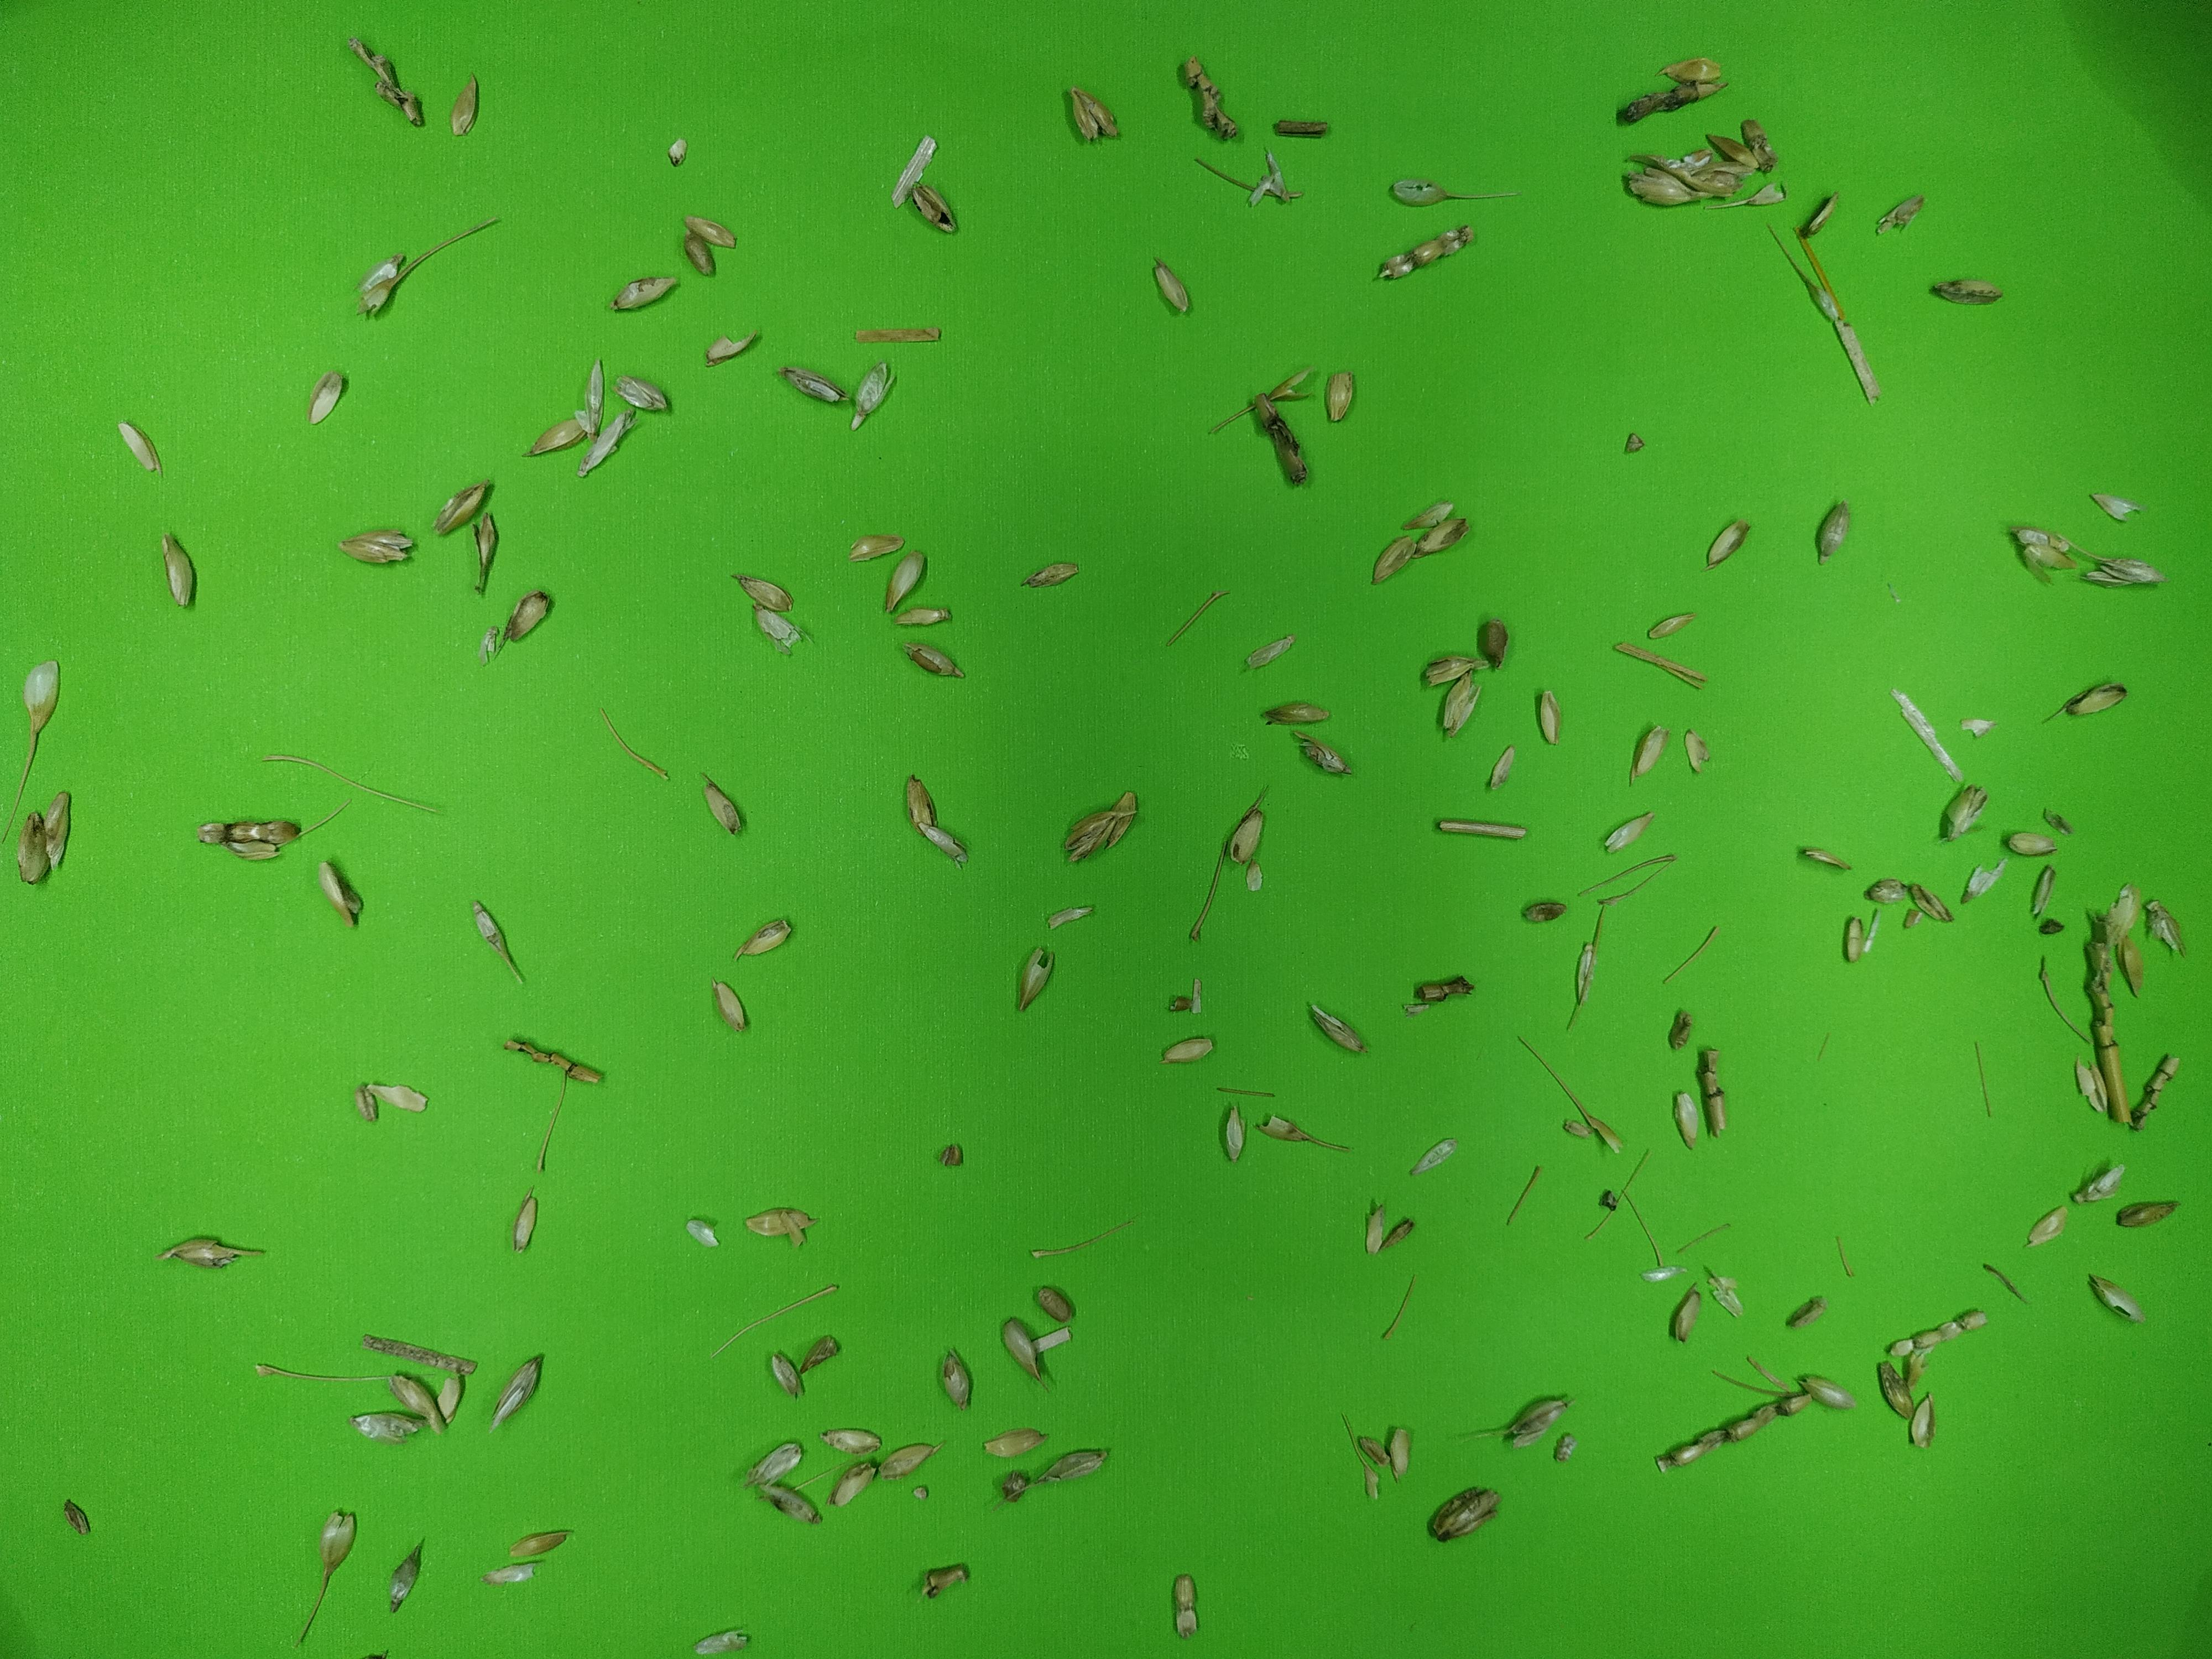impureza: (1766, 223, 1883, 401), (1648, 1387, 1810, 1478), (359, 218, 503, 315), (258, 751, 439, 816), (2081, 908, 2134, 1124), (291, 1506, 362, 1645), (721, 1277, 841, 1347), (1890, 688, 1965, 788), (348, 37, 425, 129), (1376, 221, 1474, 286), (1515, 1032, 1588, 1117), (1564, 904, 1611, 1032), (1581, 1150, 1646, 1243), (1177, 56, 1245, 143), (1062, 788, 1137, 866), (357, 1326, 477, 1375), (597, 704, 672, 781), (1886, 1307, 1996, 1359), (496, 1035, 604, 1087), (1611, 640, 1710, 694), (1576, 849, 1681, 899), (1627, 153, 1738, 200), (1616, 82, 1731, 127), (996, 1314, 1059, 1396), (474, 897, 529, 988), (577, 411, 650, 479), (1388, 173, 1524, 209), (1256, 394, 1310, 484), (486, 1351, 545, 1429), (160, 1232, 266, 1276), (314, 849, 368, 934), (2, 730, 42, 843), (385, 1366, 449, 1436), (2038, 953, 2088, 1042), (1426, 1486, 1505, 1542), (331, 525, 420, 573), (1031, 1215, 1130, 1258), (1163, 586, 1230, 650), (2040, 676, 2132, 721), (381, 1534, 430, 1617), (1658, 922, 1723, 985), (1510, 1389, 1575, 1452), (1343, 1412, 1385, 1506), (1305, 997, 1366, 1061), (1186, 850, 1226, 948), (848, 356, 899, 432), (1256, 1114, 1352, 1154), (253, 1358, 390, 1385), (535, 1068, 571, 1173), (2010, 526, 2074, 586), (1932, 784, 1994, 843), (907, 176, 965, 240), (2132, 1054, 2181, 1129), (894, 132, 939, 213), (434, 477, 495, 537), (273, 800, 345, 850), (883, 544, 930, 620), (1068, 84, 1123, 148), (1695, 1044, 1731, 1141), (1247, 148, 1303, 211), (1031, 1443, 1111, 1486), (12, 809, 56, 887), (740, 1204, 819, 1248), (747, 1436, 808, 1492), (775, 361, 850, 406), (695, 770, 747, 835), (192, 817, 305, 847), (1292, 734, 1359, 784), (509, 582, 559, 648), (1402, 972, 1475, 1018), (876, 1436, 949, 1481), (1627, 1187, 1667, 1269), (347, 1406, 428, 1446), (157, 528, 195, 612), (21, 659, 63, 735), (2085, 1274, 2144, 1328), (2069, 1154, 2132, 1204), (519, 415, 594, 457), (117, 416, 165, 479), (1409, 514, 1474, 561), (608, 275, 683, 315), (1595, 864, 1670, 904), (1153, 256, 1198, 322), (1702, 516, 1750, 577), (1705, 136, 1782, 174), (1627, 720, 1667, 793), (2078, 556, 2165, 589), (733, 915, 794, 962), (1432, 816, 1533, 843), (728, 572, 792, 615), (763, 1483, 827, 1527), (899, 643, 968, 683), (1601, 809, 1660, 856), (937, 1347, 979, 1413), (470, 509, 500, 601), (307, 366, 350, 429), (1797, 1371, 1860, 1415), (827, 1457, 878, 1511), (610, 375, 674, 416), (707, 976, 752, 1035), (850, 319, 941, 349), (1926, 275, 2003, 310), (2146, 899, 2189, 960), (914, 816, 970, 863), (1014, 948, 1050, 1019), (1817, 497, 1855, 565), (2107, 873, 2141, 951), (1397, 495, 1458, 537), (2113, 1194, 2186, 1229), (1017, 556, 1083, 594), (1230, 805, 1270, 868), (40, 786, 71, 866), (1503, 1164, 1540, 1232), (512, 1527, 580, 1563), (1959, 850, 2010, 899), (1904, 878, 1956, 925), (981, 1424, 1050, 1459), (1437, 688, 1479, 746), (754, 606, 805, 653), (449, 70, 484, 138), (1737, 115, 1780, 169), (1383, 1270, 1416, 1340), (1878, 1359, 1918, 1417), (1703, 1258, 1742, 1317), (1670, 1087, 1703, 1155), (1170, 1570, 1202, 1642), (1665, 1286, 1703, 1344), (1407, 1138, 1458, 1182), (1258, 701, 1341, 727), (1474, 615, 1510, 674), (1245, 629, 1299, 669), (2071, 1061, 2111, 1115), (1320, 366, 1355, 427), (1881, 190, 1930, 234), (1676, 728, 1719, 777), (369, 1077, 427, 1114), (911, 1563, 968, 1600), (1707, 183, 1787, 209), (1710, 1370, 1791, 1396), (2113, 936, 2148, 995), (221, 835, 291, 864), (435, 1366, 472, 1422), (1533, 690, 1566, 751), (702, 329, 759, 364), (1676, 1216, 1733, 1251), (1986, 1262, 2031, 1305), (1371, 535, 1413, 582), (1658, 56, 1721, 87), (846, 532, 911, 561), (509, 1188, 538, 1253), (1038, 901, 1103, 931), (1585, 1117, 1632, 1157), (1806, 190, 1843, 240), (679, 214, 735, 247), (890, 603, 956, 631), (688, 1628, 754, 1656), (1197, 155, 1249, 190), (1033, 1283, 1076, 1324), (1385, 1425, 1414, 1486), (1911, 1392, 1940, 1453), (902, 777, 935, 831), (1646, 606, 1700, 640), (1217, 1107, 1251, 1161), (582, 356, 606, 429), (2029, 863, 2060, 918), (1747, 1352, 1791, 1392), (679, 234, 718, 279), (1418, 652, 1470, 685), (1796, 845, 1857, 873), (481, 1560, 542, 1588), (822, 1427, 887, 1453), (347, 1077, 380, 1127), (1266, 366, 1310, 404), (2033, 1204, 2069, 1249), (766, 1352, 803, 1398), (1862, 875, 1907, 911), (2092, 491, 2148, 521), (1831, 1230, 1860, 1284), (1207, 401, 1252, 436), (1160, 1035, 1212, 1065), (1355, 1431, 1393, 1471), (1360, 1204, 1388, 1258), (1519, 896, 1569, 925), (1487, 742, 1519, 789), (54, 1499, 92, 1537), (681, 1213, 719, 1251), (996, 1466, 1033, 1506), (1662, 1009, 1696, 1051), (2003, 831, 2055, 859), (1273, 117, 1332, 141), (1843, 913, 1871, 964), (1977, 1040, 1994, 1119), (799, 1337, 841, 1366), (1789, 1297, 1825, 1330), (2041, 805, 2080, 836), (1031, 1323, 1068, 1354), (1961, 713, 2001, 741), (1165, 990, 1205, 1016), (479, 620, 500, 669), (1634, 1267, 1691, 1284), (665, 136, 693, 171), (1453, 1424, 1508, 1441), (1388, 1218, 1414, 1253), (1212, 1086, 1277, 1100), (941, 1141, 967, 1173), (1557, 1119, 1592, 1141), (1550, 1432, 1575, 1464), (1623, 427, 1646, 458), (907, 1481, 932, 1506), (2038, 918, 2066, 939), (1599, 1185, 1618, 1209), (1885, 580, 1900, 610), (1249, 859, 1261, 892)
